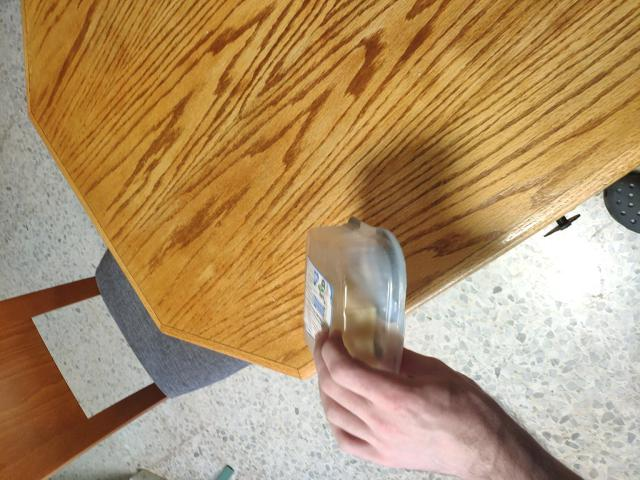cheese: (272, 235, 438, 428)
